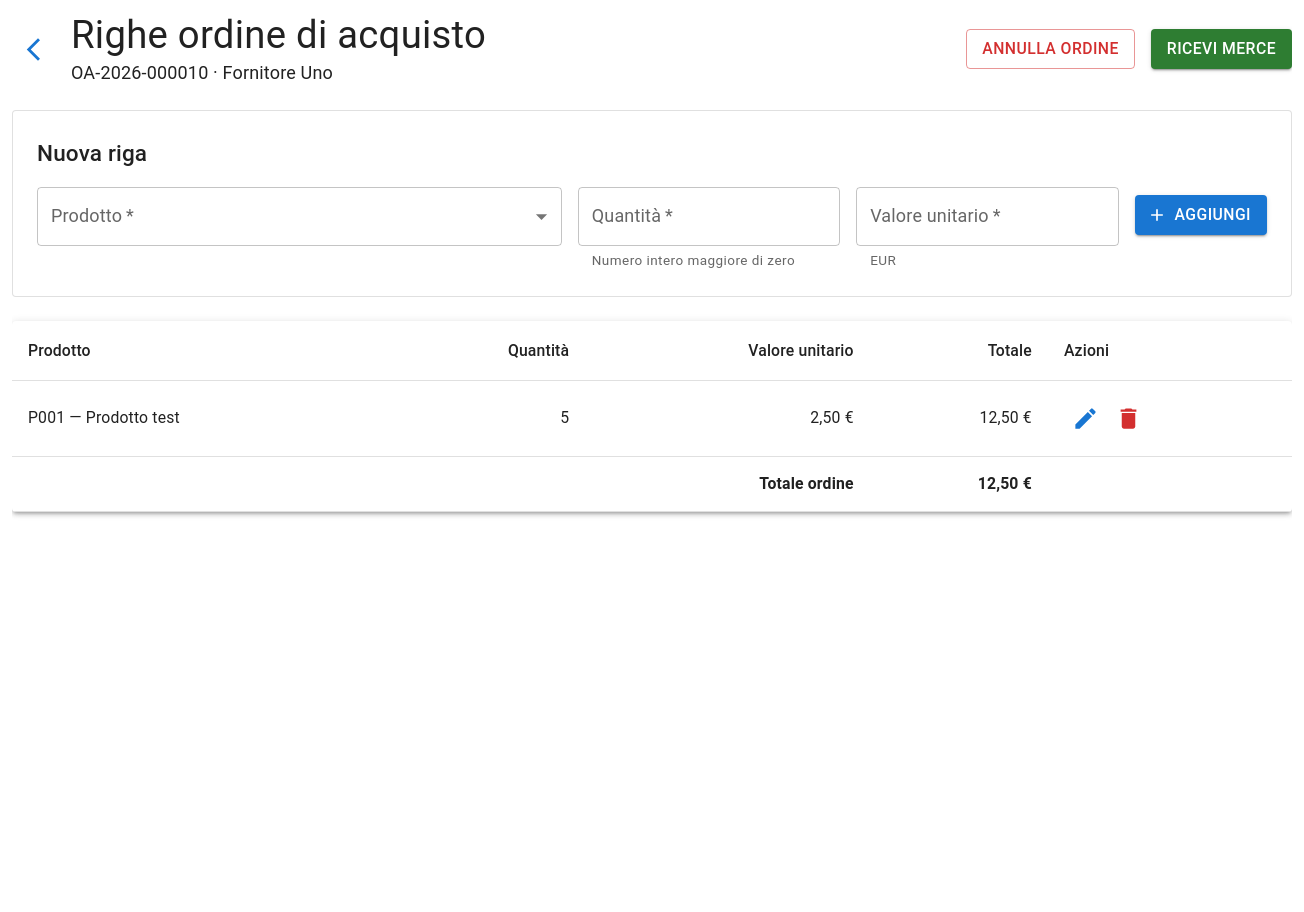
Test: RigheOrdineAcquisto › altera un item quando l ordine è pendente
The width and height of the screenshot is (1304, 912).
Click the button named "Modifica P001".
click(1085, 418)  # box x1=1064 y1=396 x2=1107 y2=440
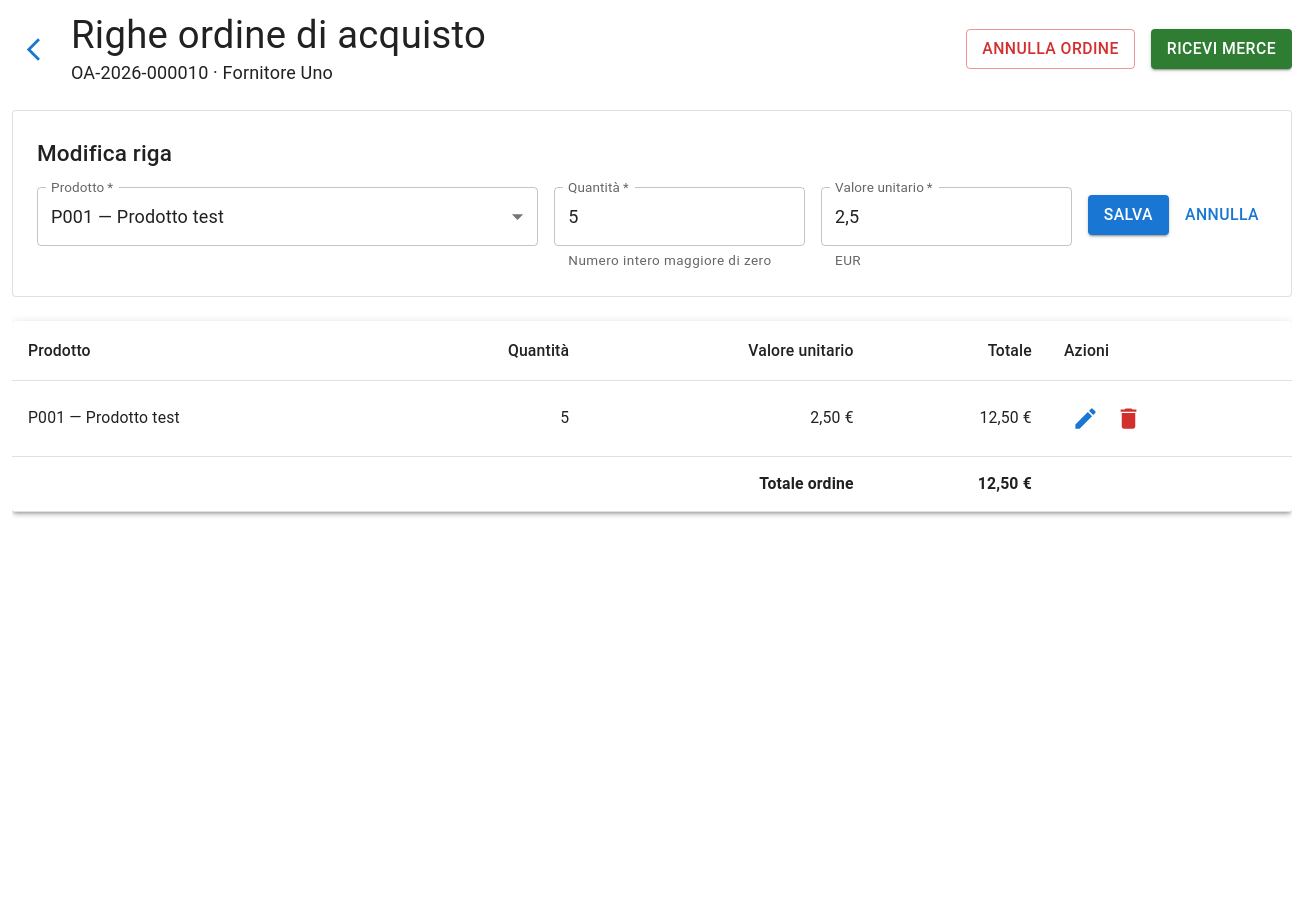
Expected: the heading "Modifica riga" is shown, x1=37 y1=140 x2=172 y2=166
Replace the text in the field labelled "Quantità" with "8" at [680, 217], box x1=554 y1=187 x2=805 y2=246
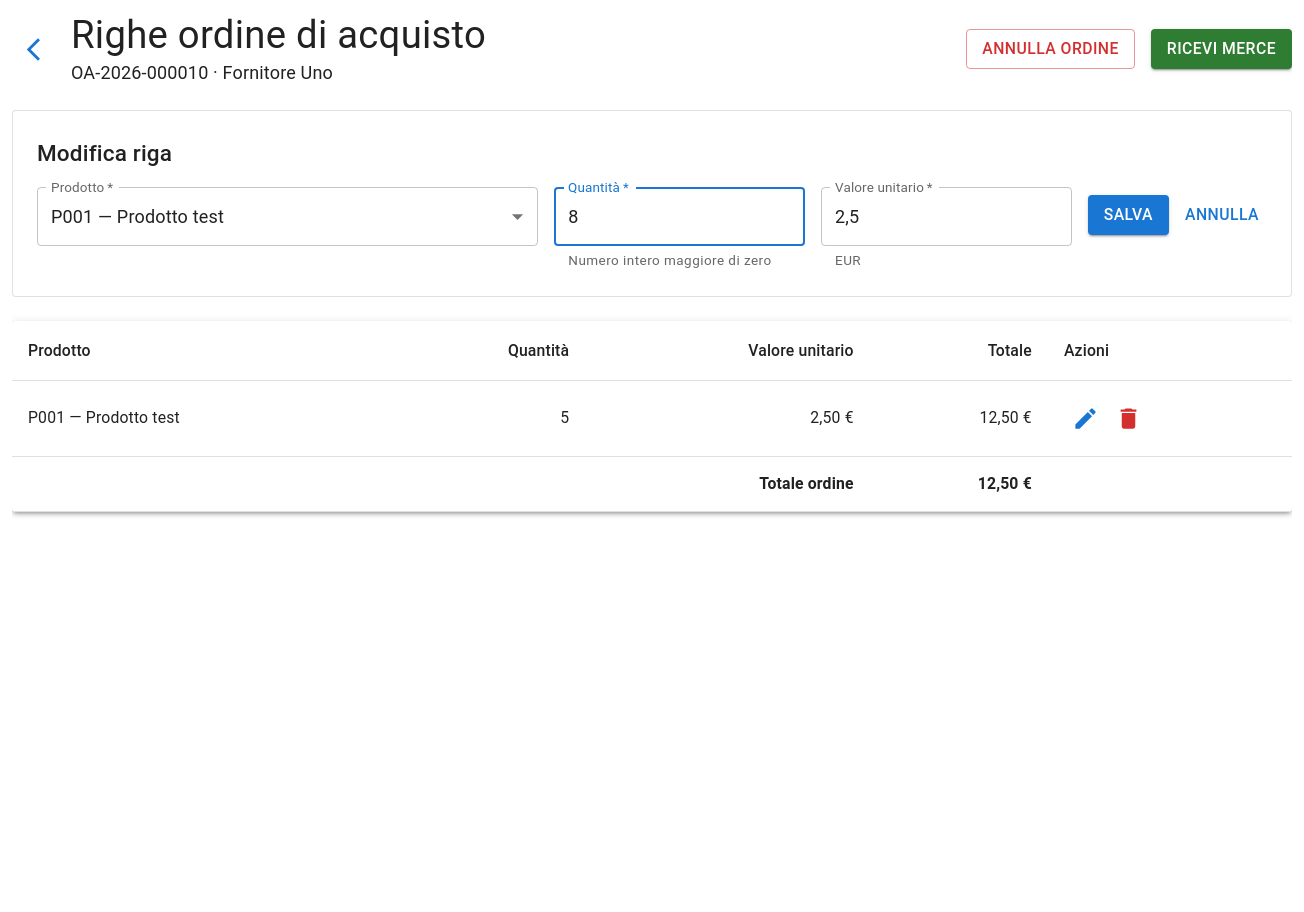
Click the button "Salva".
click(1128, 215)  # box x1=1088 y1=195 x2=1169 y2=235
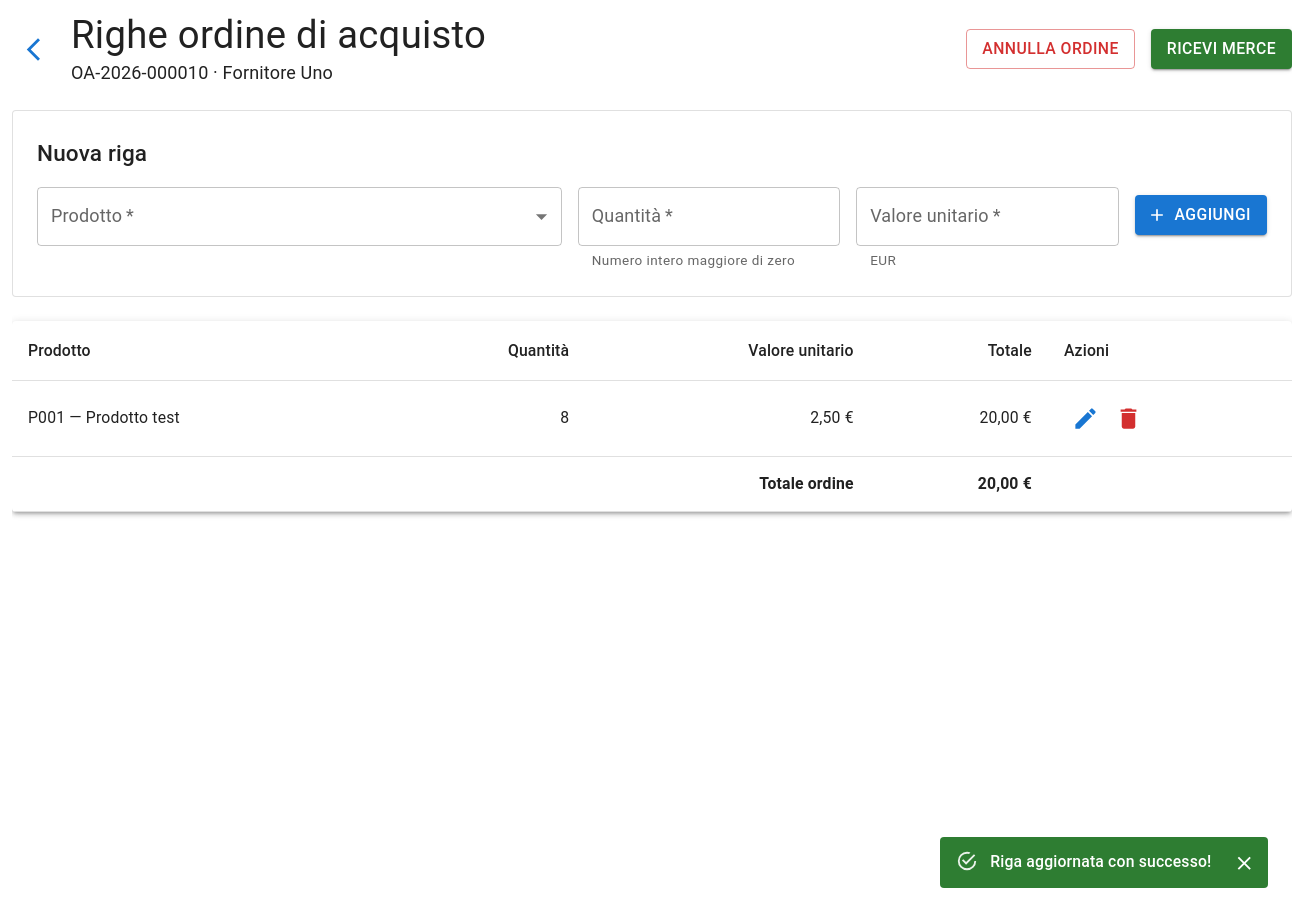
Expected: the text "Riga aggiornata con successo!" is shown, x1=990 y1=852 x2=1212 y2=872
